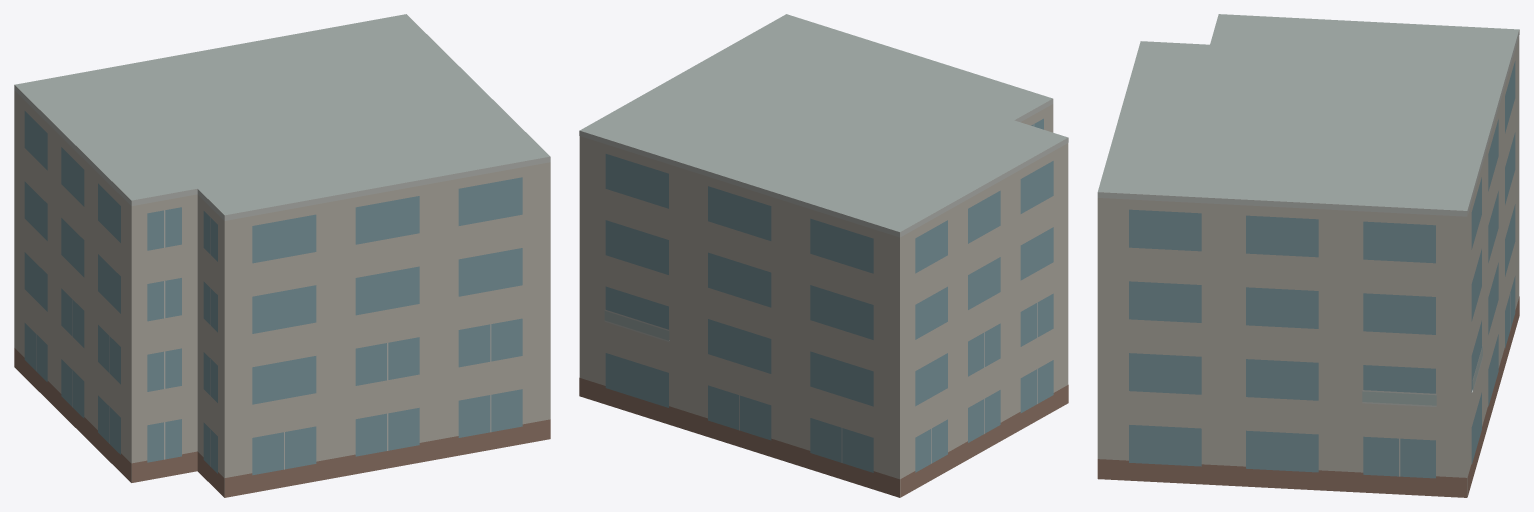
File: residential-049822bc-f821-4c69-b912-c83358e869f0.glb
The picture shows the model from 3 angles, left to right: view 1: azimuth 30°, elevation 25°; view 2: azimuth 150°, elevation 25°; view 3: azimuth 270°, elevation 25°; orthographic projection. The views are drawn at different scales.
Parts seen in each view (by area): view 1: residential-049822bc-f821-4c69-b912-c83358e869f0.tmp; view 2: residential-049822bc-f821-4c69-b912-c83358e869f0.tmp; view 3: residential-049822bc-f821-4c69-b912-c83358e869f0.tmp.
Part boxes in pixels (<box>): residential-049822bc-f821-4c69-b912-c83358e869f0.tmp: <box>14,14,550,497</box>; residential-049822bc-f821-4c69-b912-c83358e869f0.tmp: <box>579,14,1068,497</box>; residential-049822bc-f821-4c69-b912-c83358e869f0.tmp: <box>1097,14,1519,497</box>.
Bounding box in the file's own units: 17.97 × 12.2 × 16.26.
